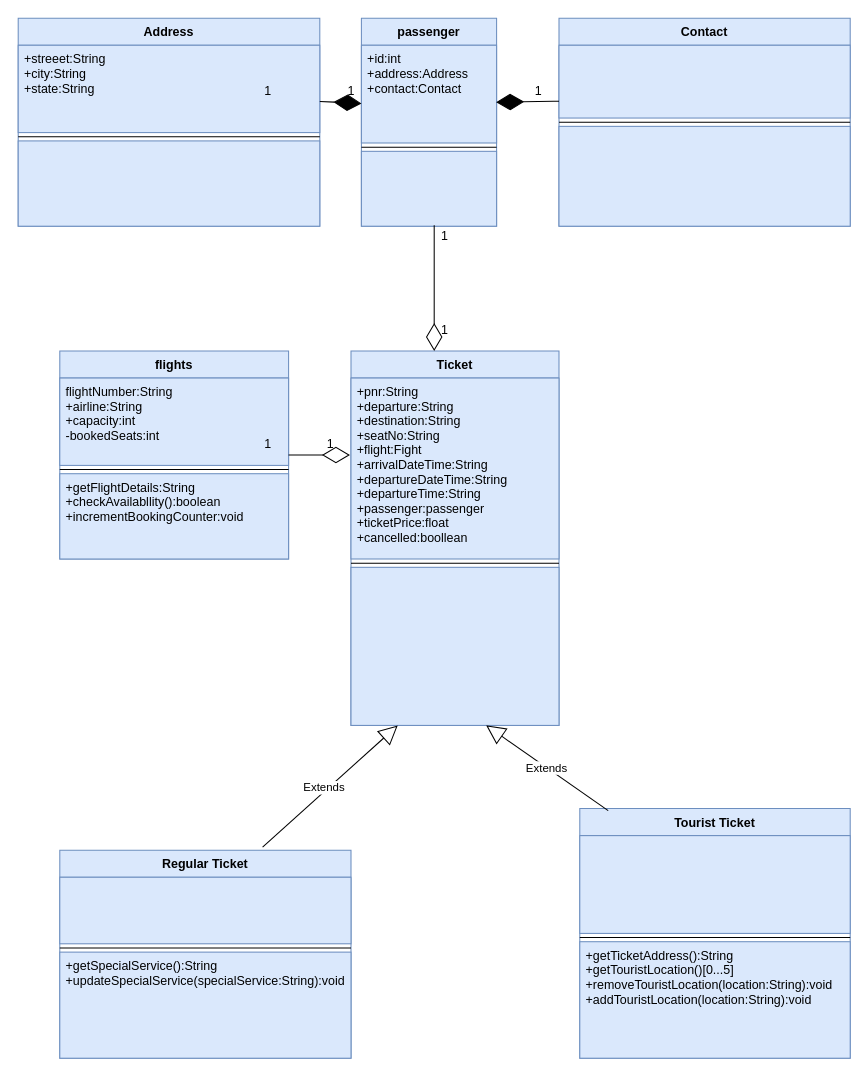
Image size: 868x1080. Some labels were removed from this diagram. The centre of each missing label's shape, as x and y in pixels:
"+checkStatus():String +getFlightDuration():int +cancel():void" goes at point (454, 645).
"+getAddressDetails():String +updateAddress(DetailsaddressDetails:String):void" goes at point (168, 183).
"+getContact():contact +getAddress()Address" goes at point (428, 188).
"+getContact():String +updateContactDetals(contactDetails:String):void" goes at point (704, 175).
"+hotelAddress:String +selectedTouristLocation:String[0....5]" goes at point (714, 884).
"+name:String +phone:String +email:String" goes at point (704, 81).
"+specialService:String" goes at point (205, 910).
